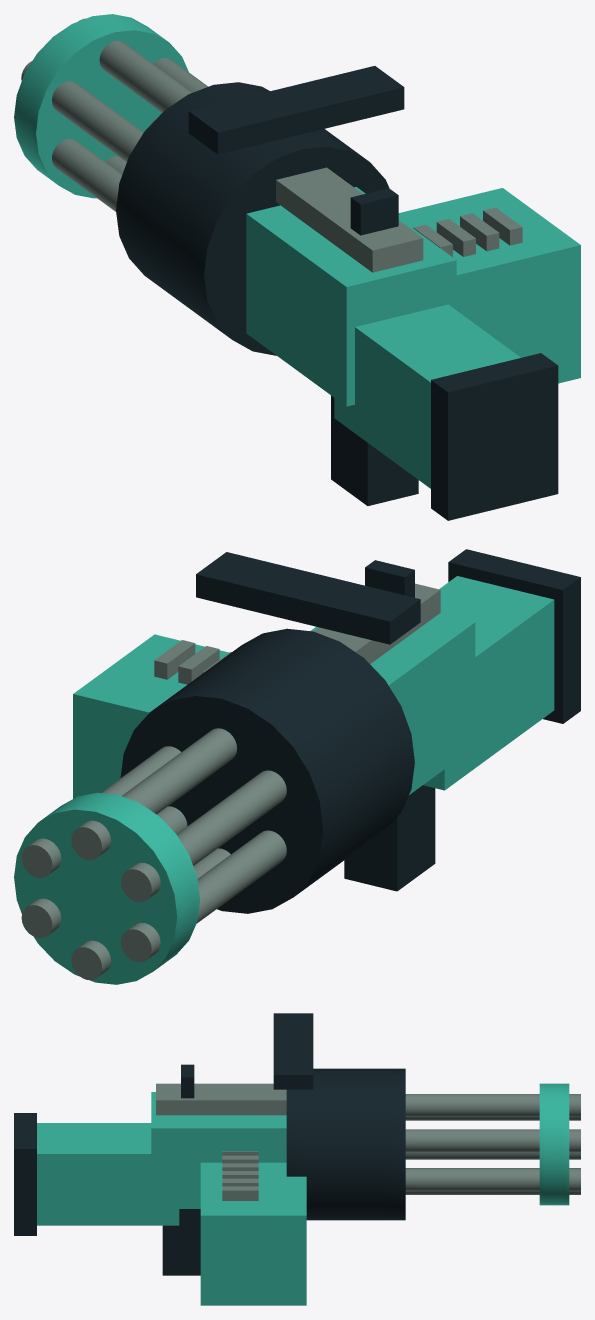
The model's file is beehive.glb.
3 views of the same model, one above another, from view 1: azimuth 30°, elevation 25°; view 2: azimuth 150°, elevation 25°; view 3: azimuth 270°, elevation 25° (orthographic). The views are drawn at different scales.
Visible parts, largest first — view 1: Motor, Receiver, Butt, AmmoBox, Stock, BarrelBrace, Handle, Rail, Grip, Barrel5, Barrel0, Barrel4 (+5 smaller); view 2: Motor, BarrelBrace, Stock, Receiver, Handle, AmmoBox, Butt, Grip, Barrel5, Barrel0, Barrel4, Barrel1 (+6 smaller); view 3: Motor, AmmoBox, Stock, Receiver, Rail, BarrelBrace, Barrel1, Barrel2, Barrel0, Handle, Butt, Grip (+5 smaller).
Boxes of the visible parts, x1,y1,x2,y2 form: Motor: (116, 82, 389, 355); Receiver: (246, 187, 456, 406); Butt: (431, 353, 558, 520); AmmoBox: (398, 188, 580, 383); Stock: (334, 304, 520, 488); BarrelBrace: (14, 14, 188, 198); Handle: (188, 66, 404, 154); Rail: (276, 167, 423, 272); Grip: (331, 395, 418, 505); Barrel5: (21, 60, 143, 161); Barrel0: (78, 18, 192, 112); Barrel4: (52, 139, 122, 211); Motor: (120, 628, 414, 913); BarrelBrace: (14, 792, 200, 984); Stock: (423, 576, 554, 790); Receiver: (310, 613, 475, 794); Handle: (196, 552, 420, 644); AmmoBox: (73, 634, 228, 798); Butt: (448, 549, 580, 723); Grip: (344, 785, 435, 891); Barrel5: (121, 770, 286, 902); Barrel0: (71, 728, 236, 860); Barrel4: (121, 830, 286, 962); Barrel1: (21, 746, 180, 877); Motor: (286, 1068, 405, 1220); AmmoBox: (200, 1162, 306, 1305); Stock: (37, 1123, 179, 1225); Receiver: (151, 1092, 286, 1208); Rail: (156, 1083, 286, 1115); BarrelBrace: (539, 1083, 569, 1205); Barrel1: (405, 1129, 580, 1152); Barrel2: (405, 1168, 580, 1191); Barrel0: (405, 1094, 580, 1116); Handle: (273, 1013, 313, 1089); Butt: (14, 1113, 36, 1235); Grip: (162, 1209, 200, 1275).
Size of the model in its own units: 0.74 by 0.745 by 1.71.
